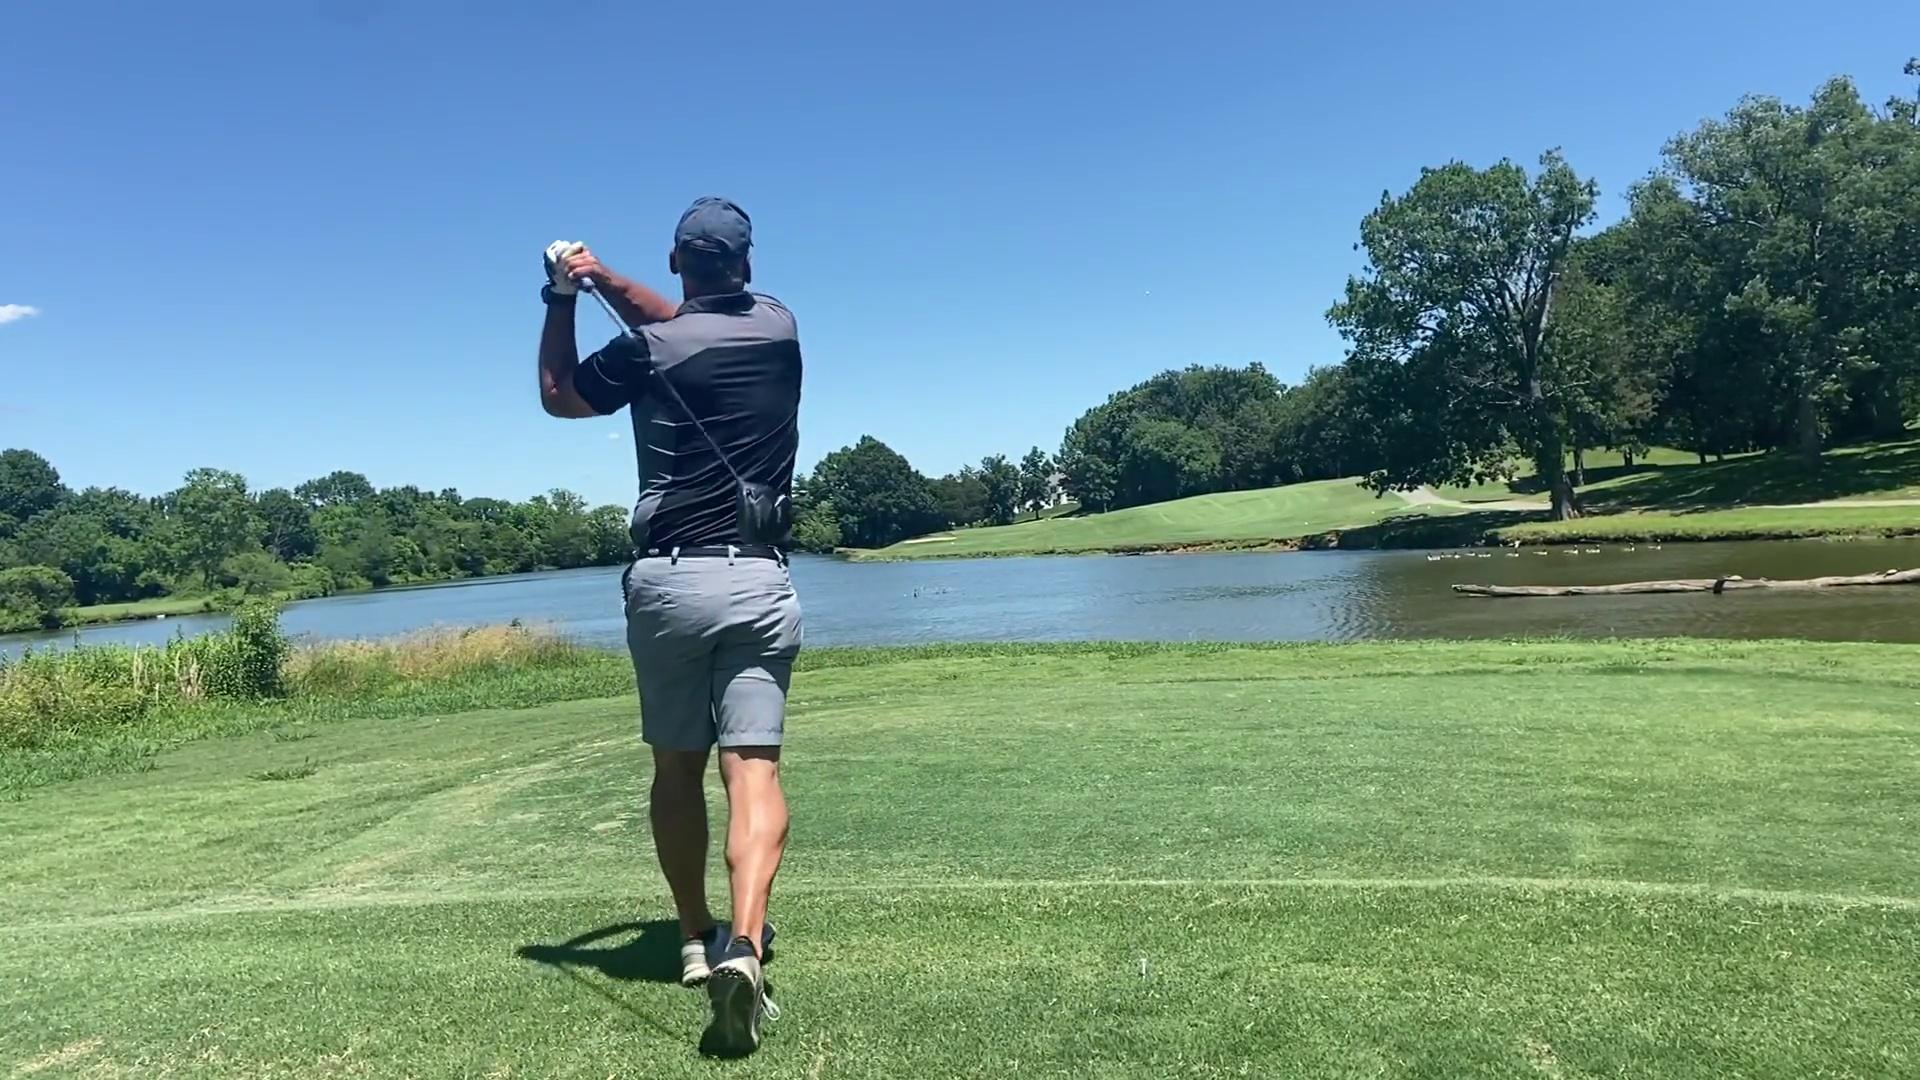ClubHead: (729, 469, 799, 553)
